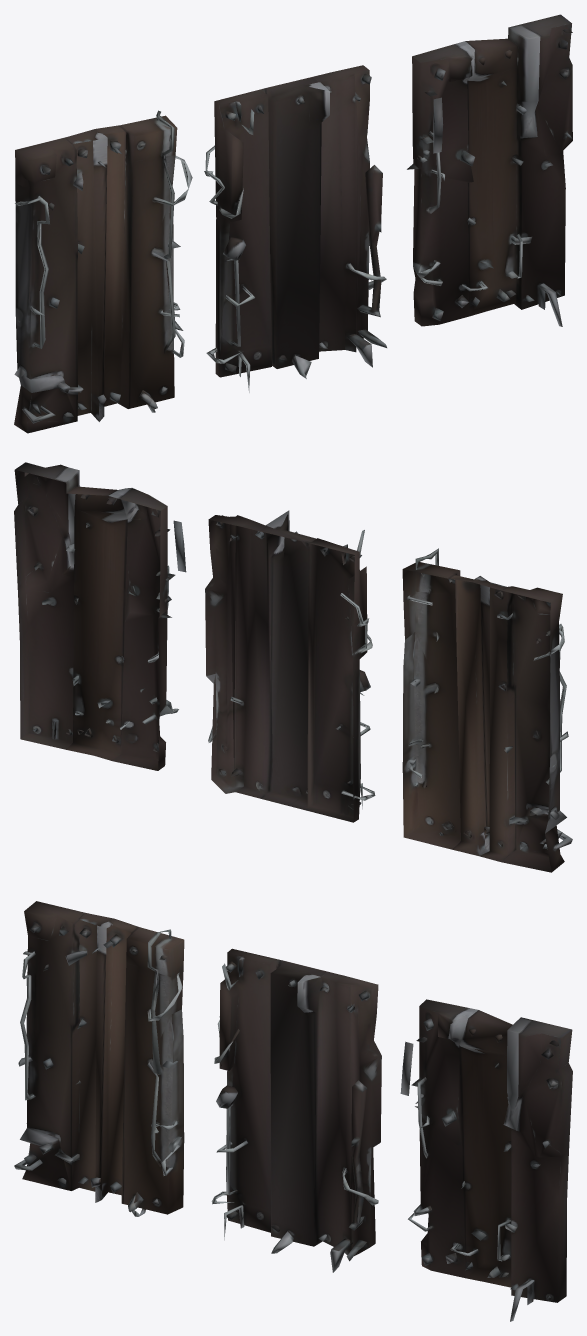
The model's file is plank_patches.glb.
3 views of the same model, one above another, from view 1: azimuth 30°, elevation 25°; view 2: azimuth 150°, elevation 25°; view 3: azimuth 330°, elevation 25° (orthographic).
Parts seen in each view (by area): view 1: plank_patches_LOD0; view 2: plank_patches_LOD0; view 3: plank_patches_LOD0.
Part boxes in pixels (<box>): plank_patches_LOD0: <box>14,14,572,433</box>; plank_patches_LOD0: <box>14,462,572,872</box>; plank_patches_LOD0: <box>14,901,572,1321</box>.
Size of what is drawn, in the model's own units: 1.6 by 0.8016 by 0.1786.
Materials: 1 (1 with a texture image).
